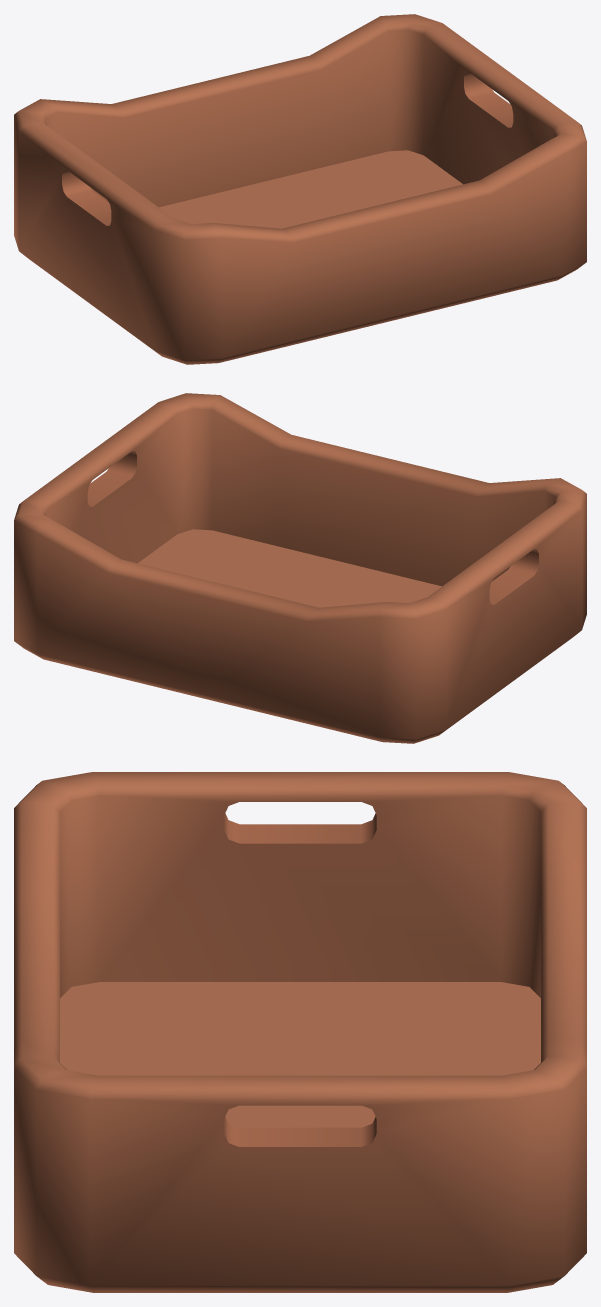
The model's file is basket-b.glb.
The picture shows the model from 3 angles, top to bottom: view 1: azimuth 30°, elevation 25°; view 2: azimuth 150°, elevation 25°; view 3: azimuth 270°, elevation 25°; orthographic projection. The views are drawn at different scales.
Parts seen in each view (by area): view 1: basket_B; view 2: basket_B; view 3: basket_B.
Part boxes in pixels (<box>): basket_B: <box>14,14,586,364</box>; basket_B: <box>14,393,586,743</box>; basket_B: <box>14,772,586,1292</box>.
Bounding box in the file's own units: 1 × 0.3 × 0.75.
1 material, 1 textured.
